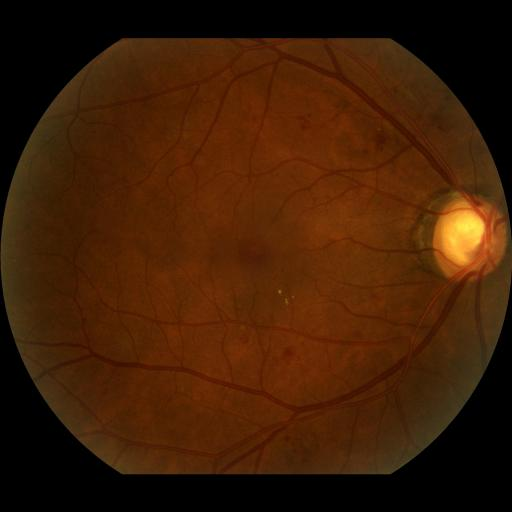Optic Cup: (442, 203, 486, 266)
Optic Disc: (433, 194, 507, 283)
